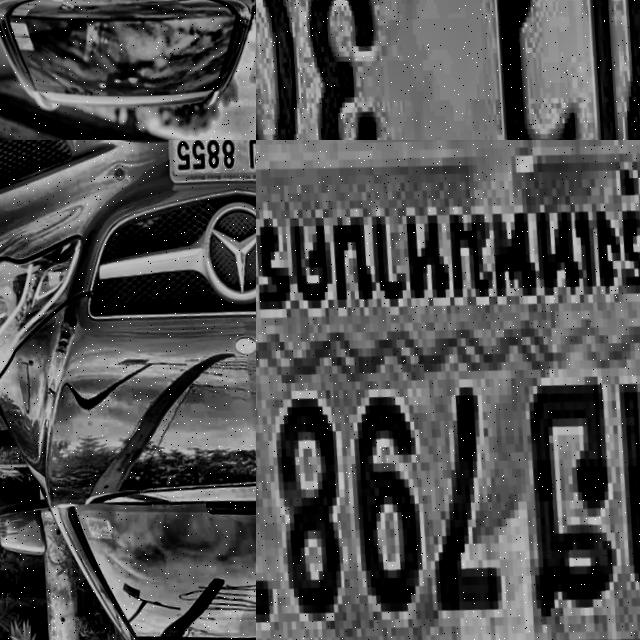license-plate: (256, 140, 640, 640), (256, 0, 640, 140), (162, 140, 256, 186)
